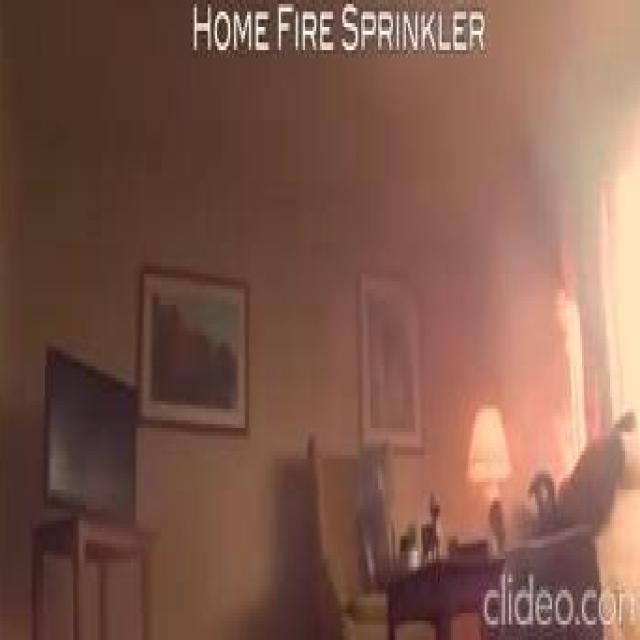smoke: (556, 297, 586, 490)
